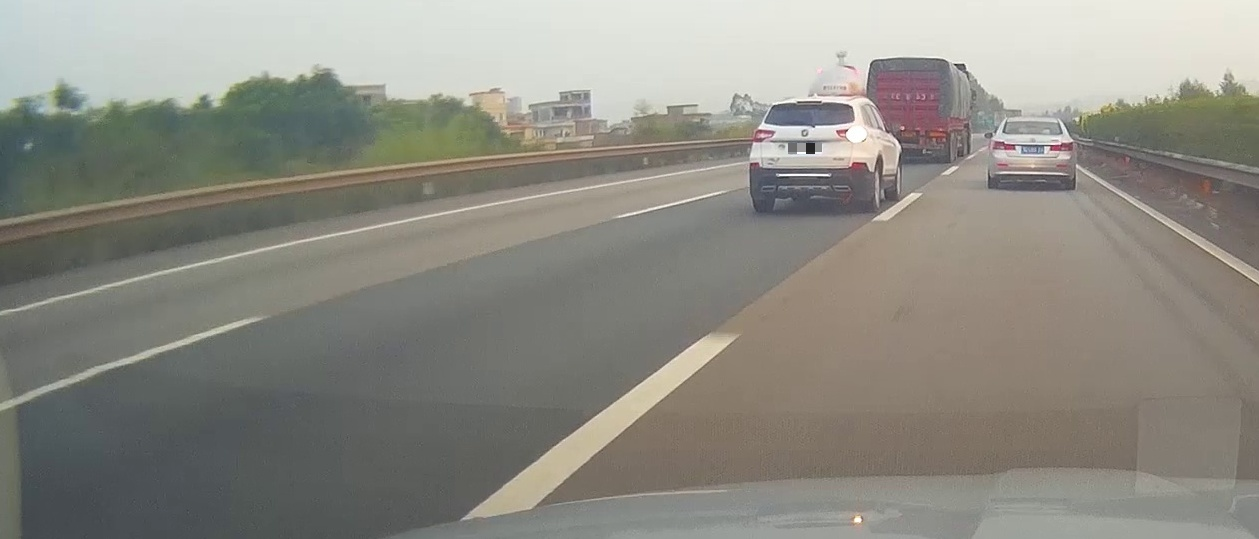L_light: (753, 129, 775, 142), (993, 140, 1016, 150)
R_light: (836, 126, 866, 142), (1049, 142, 1074, 151)
T_light: (796, 100, 822, 105), (1027, 119, 1040, 123)
day-no: (987, 117, 1076, 190)
day-right: (749, 99, 876, 212)
plate_1: (788, 143, 822, 154)
